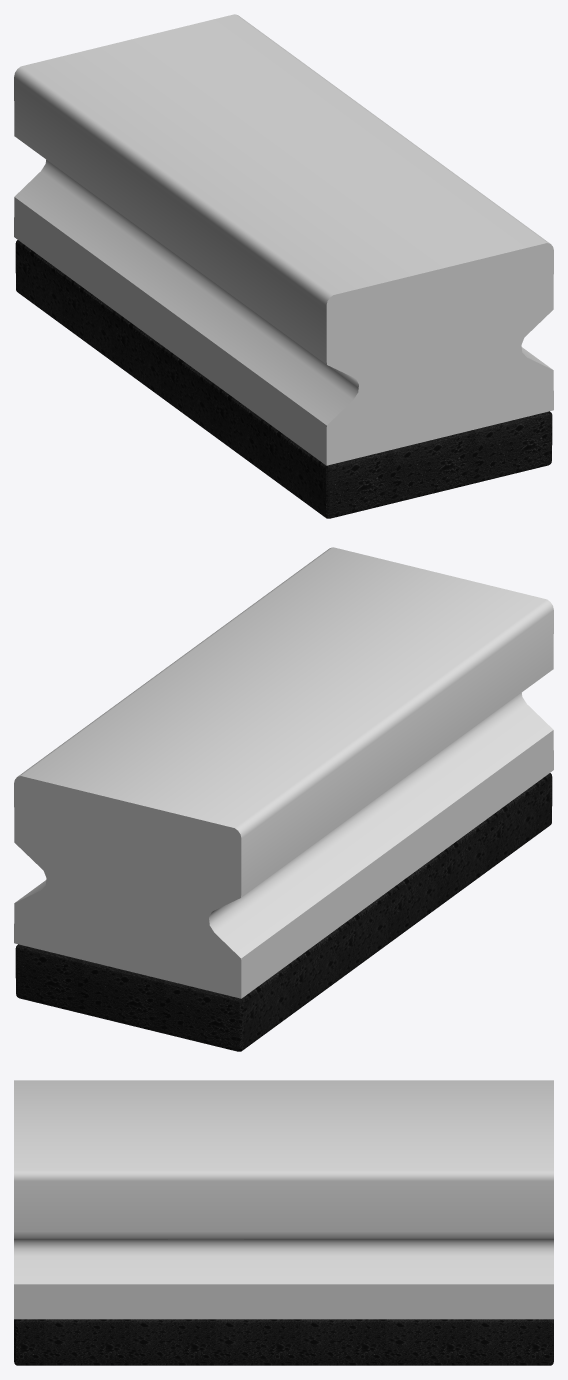
The model's file is duster.FBX.
3 views of the same model, one above another, from view 1: azimuth 30°, elevation 25°; view 2: azimuth 150°, elevation 25°; view 3: azimuth 270°, elevation 25° (orthographic). The views are drawn at different scales.
Parts seen in each view (by area): view 1: Rectangle001, Rectangle002; view 2: Rectangle001, Rectangle002; view 3: Rectangle001, Rectangle002.
Boxes of the visible parts, left/top/right/bottom form: Rectangle001: left=14, top=14, right=553, bottom=465; Rectangle002: left=15, top=240, right=552, bottom=518; Rectangle001: left=14, top=547, right=553, bottom=998; Rectangle002: left=15, top=773, right=552, bottom=1051; Rectangle001: left=14, top=1080, right=553, bottom=1319; Rectangle002: left=14, top=1319, right=553, bottom=1365.
Size of the model in its own units: 84.06 by 79.23 by 200.
1 material, 1 textured.
